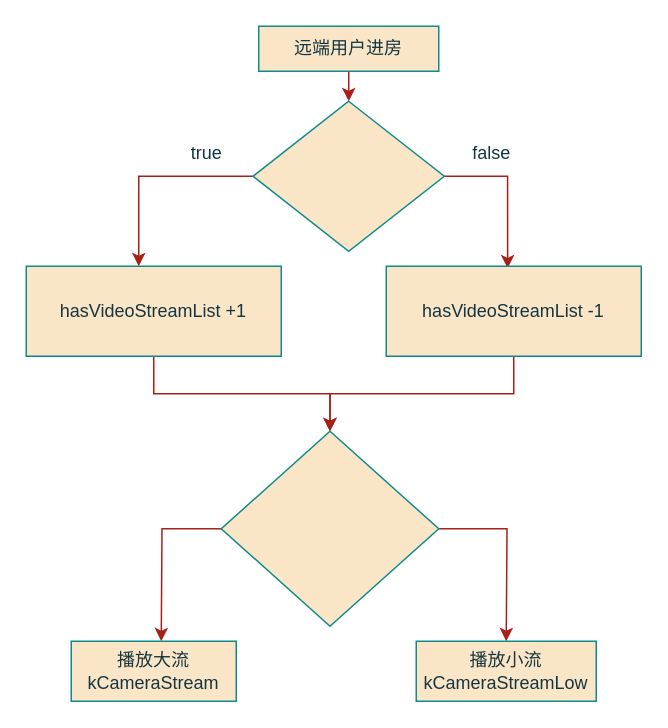
The diagram is 668 pixels wide and 728 high, and some of its shapes have lost their labels. The shapes that lost their labels are listed below. From the top down, each one's box as (x1, y1, x2, y2) in pixels, then its label:
(252, 100, 444, 251): hasVideo？
(220, 430, 439, 626): hasVideoStreamList > 5
